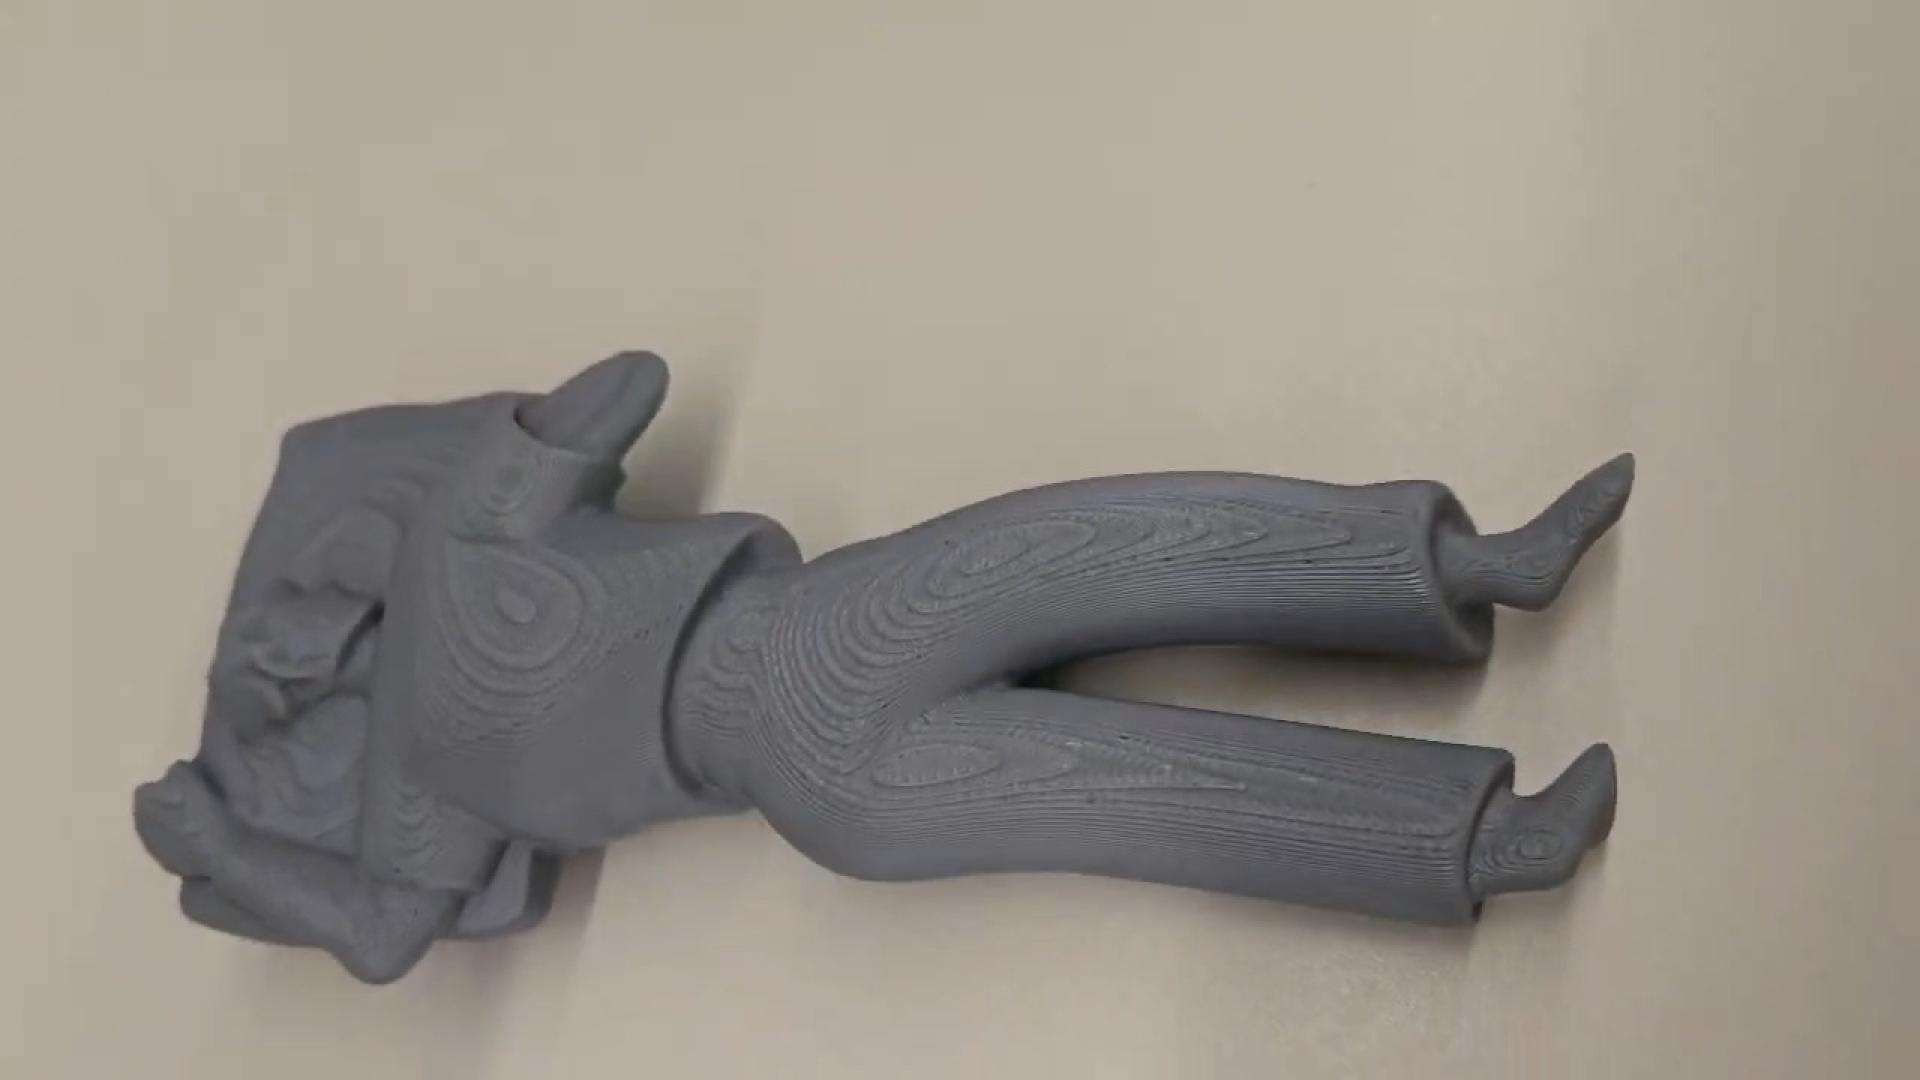Bad-style: (133, 345, 1644, 997)
